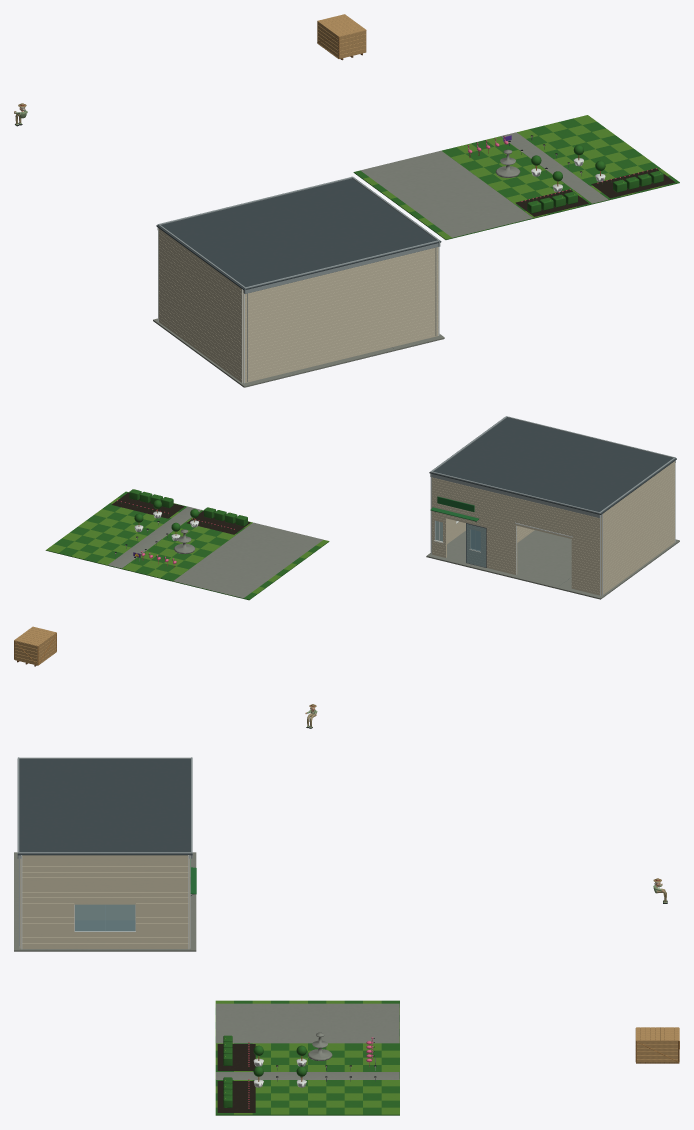
File: 39_Fixes.gltf
3 renders of one model, top to bottom at view 1: azimuth 30°, elevation 25°; view 2: azimuth 150°, elevation 25°; view 3: azimuth 270°, elevation 25°, orthographic. The views are drawn at different scales.
Parts seen in each view (by area): view 1: SmallOffice__Body, SmallOffice__Roof, GloriaYard_Stage3__Body, GloriaYard_Stage3__Lawn, SmallOffice__Floor, DeliveryCrate__Lid, DeliveryCrate__BackPanel, DeliveryCrate__Body; view 2: SmallOffice__Body, SmallOffice__Roof, GloriaYard_Stage3__Body, GloriaYard_Stage3__Lawn, SmallOffice__Floor, SmallOffice__Glass_Door, SmallOffice, DeliveryCrate__Lid; view 3: SmallOffice__Roof, SmallOffice__Body, GloriaYard_Stage3__Body, GloriaYard_Stage3__Lawn, SmallOffice__Floor, SmallOffice__Glass_OfficeSide, SmallOffice, DeliveryCrate__Body, DeliveryCrate__Lid.
Part boxes in pixels (x1=…): SmallOffice__Body: x1=157, y1=176, x2=440, y2=383; SmallOffice__Roof: x1=156, y1=177, x2=441, y2=290; GloriaYard_Stage3__Body: x1=360, y1=132, x2=675, y2=237; GloriaYard_Stage3__Lawn: x1=353, y1=115, x2=679, y2=239; SmallOffice__Floor: x1=153, y1=318, x2=444, y2=387; DeliveryCrate__Lid: x1=317, y1=14, x2=365, y2=36; DeliveryCrate__BackPanel: x1=339, y1=30, x2=365, y2=58; DeliveryCrate__Body: x1=317, y1=21, x2=366, y2=60; SmallOffice__Body: x1=430, y1=416, x2=675, y2=595; SmallOffice__Roof: x1=429, y1=417, x2=676, y2=514; GloriaYard_Stage3__Body: x1=108, y1=489, x2=323, y2=598; GloriaYard_Stage3__Lawn: x1=45, y1=491, x2=329, y2=600; SmallOffice__Floor: x1=426, y1=530, x2=679, y2=599; SmallOffice__Glass_Door: x1=466, y1=524, x2=485, y2=567; SmallOffice: x1=434, y1=514, x2=601, y2=595; DeliveryCrate__Lid: x1=14, y1=626, x2=56, y2=645; SmallOffice__Roof: x1=17, y1=759, x2=192, y2=855; SmallOffice__Body: x1=17, y1=757, x2=196, y2=949; GloriaYard_Stage3__Body: x1=216, y1=1003, x2=399, y2=1112; GloriaYard_Stage3__Lawn: x1=215, y1=1000, x2=399, y2=1115; SmallOffice__Floor: x1=14, y1=852, x2=196, y2=951; SmallOffice__Glass_OfficeSide: x1=75, y1=904, x2=135, y2=931; SmallOffice: x1=74, y1=858, x2=189, y2=948; DeliveryCrate__Body: x1=636, y1=1028, x2=679, y2=1063; DeliveryCrate__Lid: x1=636, y1=1027, x2=678, y2=1040.
Size of the model in its own units: 28.24 by 4.91 by 30.37.
Materials: 5 (4 with a texture image).
